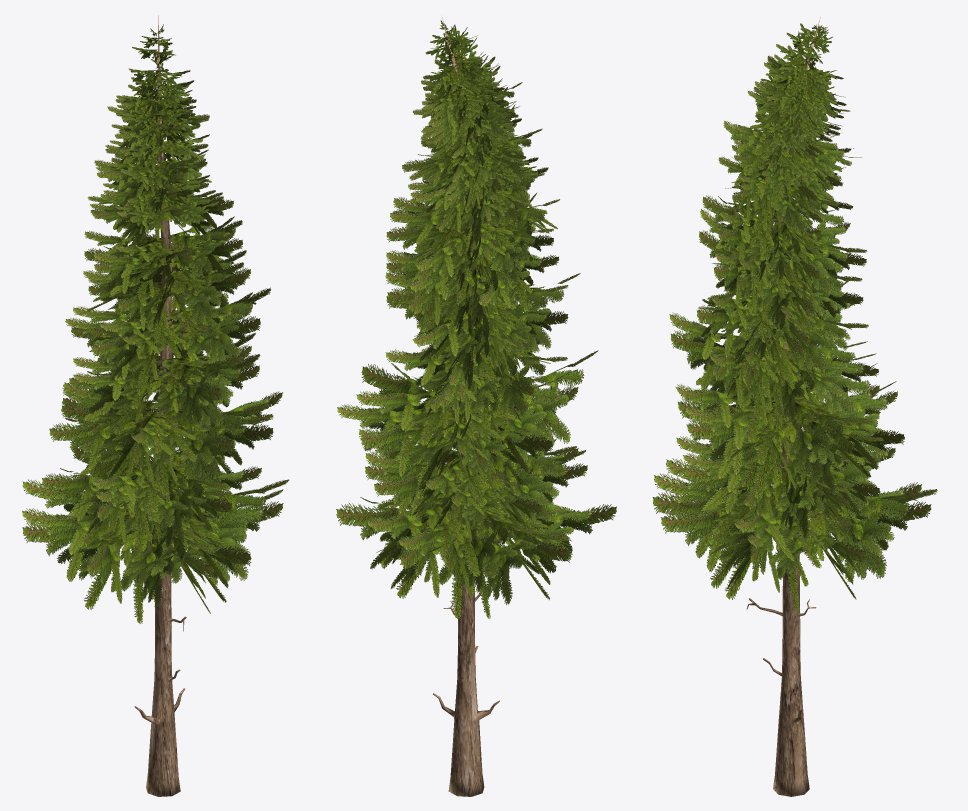
File: POHON3_LOD.fbx
The picture shows the model from 3 angles, left to right: view 1: azimuth 30°, elevation 25°; view 2: azimuth 150°, elevation 25°; view 3: azimuth 270°, elevation 25°; orthographic projection. The views are drawn at different scales.
Visible parts, largest first — view 1: POHON3_LOD0; view 2: POHON3_LOD0; view 3: POHON3_LOD0.
Boxes of the visible parts, x1=… form: POHON3_LOD0: x1=22, y1=15, x2=289, y2=796; POHON3_LOD0: x1=336, y1=17, x2=616, y2=796; POHON3_LOD0: x1=652, y1=16, x2=937, y2=796.
Size of what is drawn, in the model's own units: 397 by 1113 by 397.
